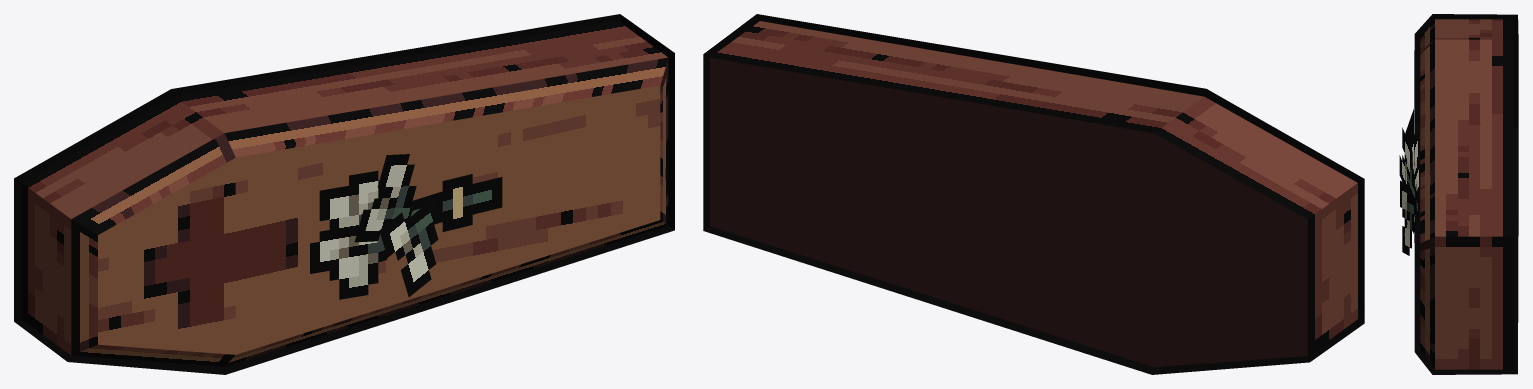
The model's file is coffin.fbx.
The picture shows the model from 3 angles, left to right: view 1: azimuth 30°, elevation 25°; view 2: azimuth 150°, elevation 25°; view 3: azimuth 270°, elevation 25°; orthographic projection. The views are drawn at different scales.
Visible parts, largest first — view 1: Ataud_0, Ataud_outline_1; view 2: Ataud_0, Ataud_outline_1; view 3: Ataud_0, Ataud_outline_1.
Boxes of the visible parts, left/top/right/bottom form: Ataud_0: left=21, top=21, right=668, bottom=366; Ataud_outline_1: left=14, top=14, right=674, bottom=374; Ataud_0: left=710, top=21, right=1357, bottom=367; Ataud_outline_1: left=703, top=14, right=1364, bottom=374; Ataud_0: left=1399, top=19, right=1514, bottom=369; Ataud_outline_1: left=1405, top=14, right=1518, bottom=374.
Size of the model in its own units: 4.96 by 1.93 by 1.12.
Materials: 2 (2 with a texture image).
